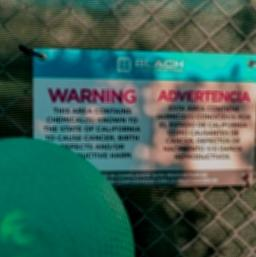algae: (0, 133, 136, 257)
